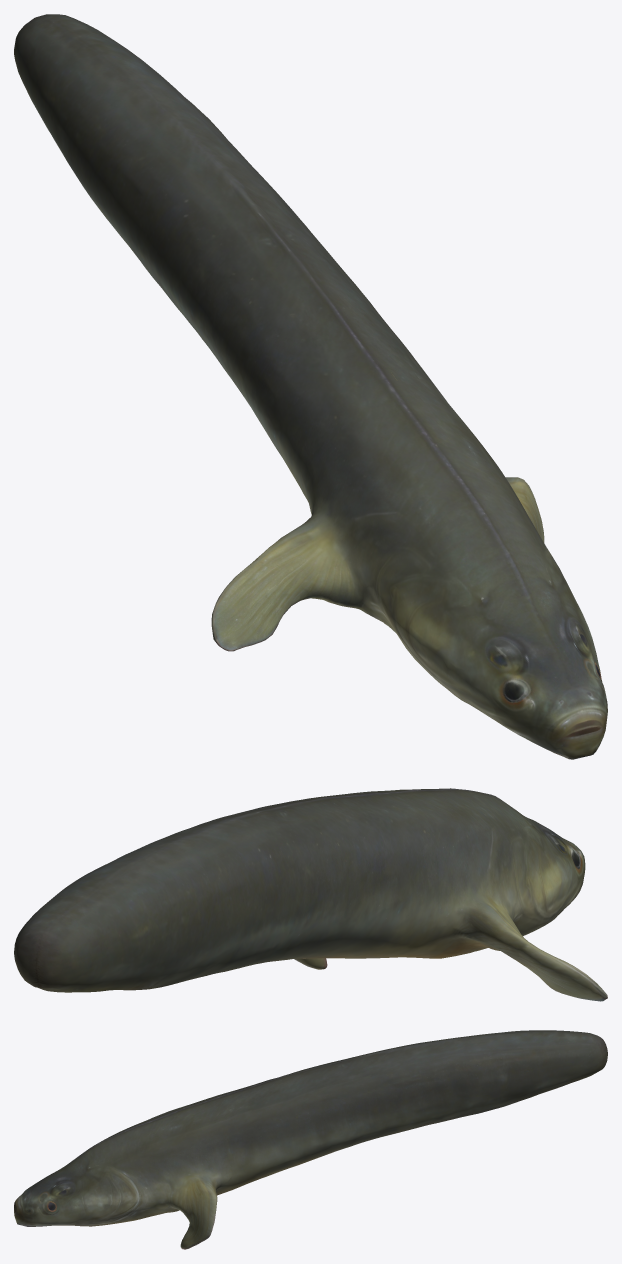
The model's file is american-eel.glb.
3 renders of one model, top to bottom at view 1: azimuth 30°, elevation 25°; view 2: azimuth 150°, elevation 25°; view 3: azimuth 270°, elevation 25°, orthographic. The views are drawn at different scales.
Size of the model in its own units: 0.7232 by 0.7101 by 1.99.
Materials: 1 (1 with a texture image).
